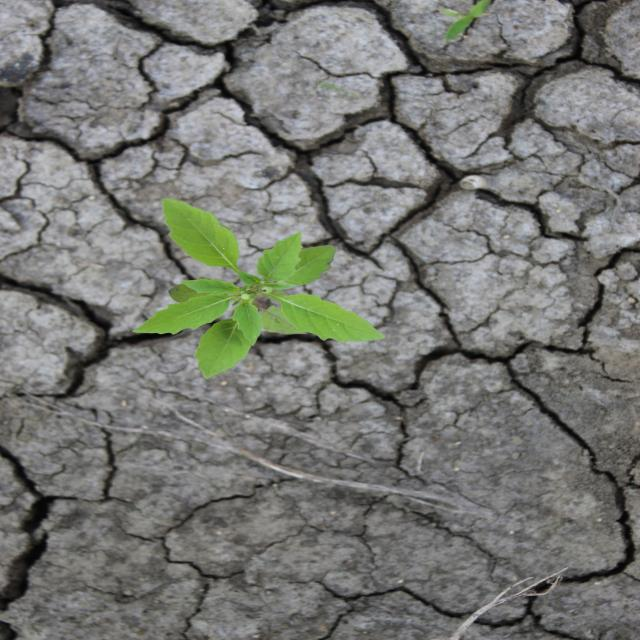CutleafGroundcherry: (130, 196, 388, 381)
